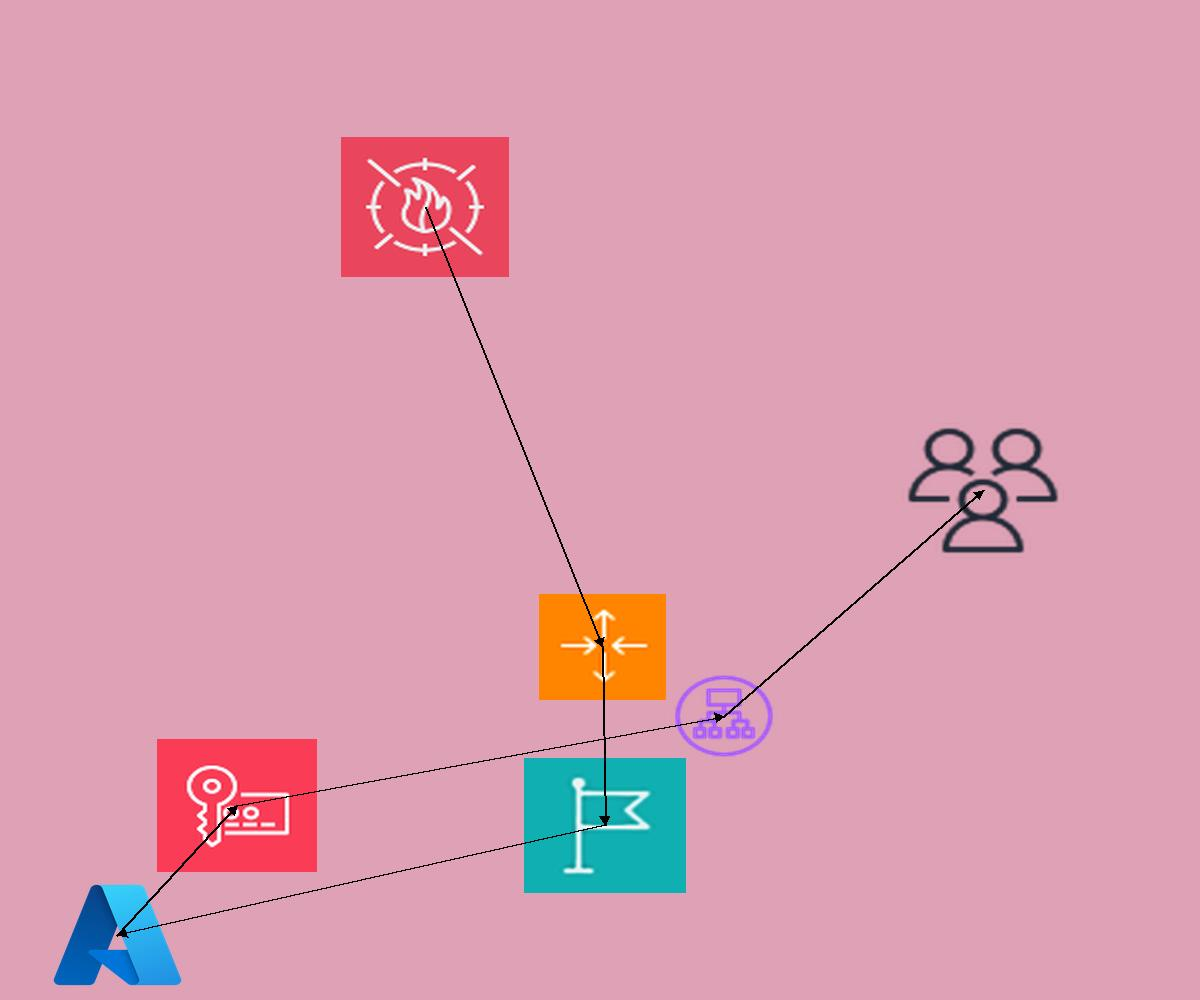AWS-Key-Management-Service: (157, 739, 317, 872)
AWS-Region: (524, 758, 686, 893)
AWS-Res_Elastic-Load-Balancing_Application-Load-Balancer: (671, 672, 777, 760)
AWS-Res_Users: (902, 423, 1064, 558)
AWS-Scaling-group: (539, 594, 666, 700)
AWS-WAF: (341, 137, 509, 277)
Azure_services: (48, 877, 187, 993)
